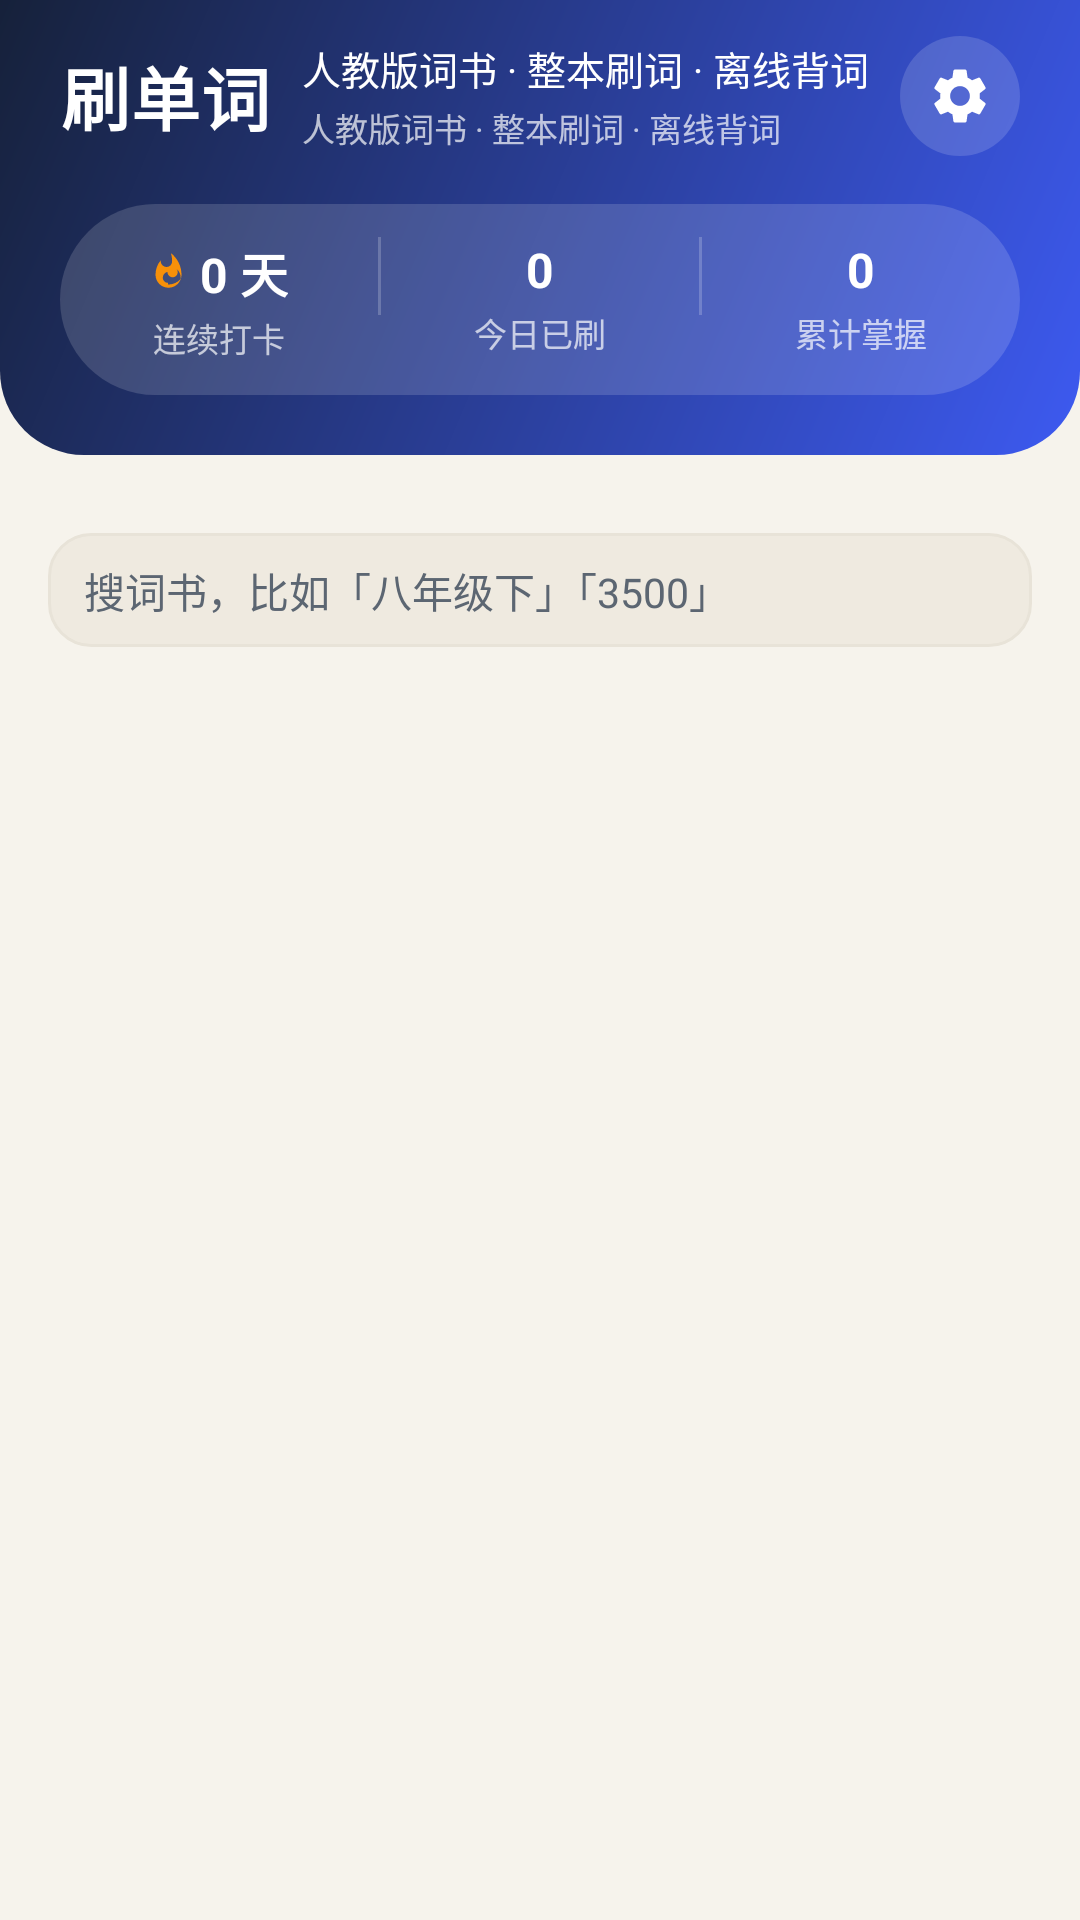

Screen size 1080w x 1920h. Icon name, then its box in pixels as [x1=x1, y1=y1, x2=x2, y2=y2]:
flame: [x1=155, y1=253, x2=182, y2=288]
设置: [x1=900, y1=36, x2=1020, y2=156]
